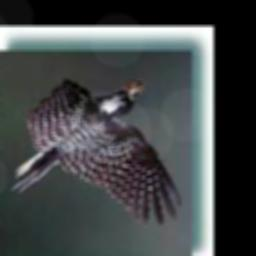Woodpecker: (13, 74, 190, 233)
